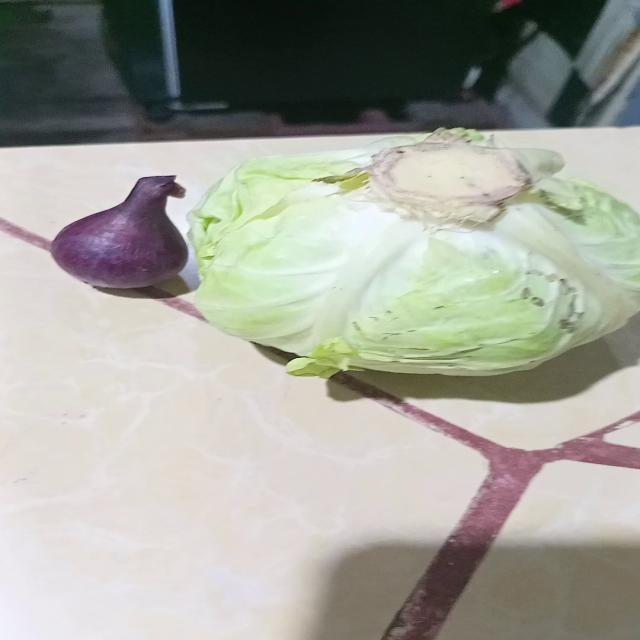cabbage: (185, 129, 640, 379)
onion: (44, 175, 198, 294)
